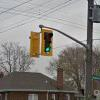Traffic light: (25, 25, 62, 60)
